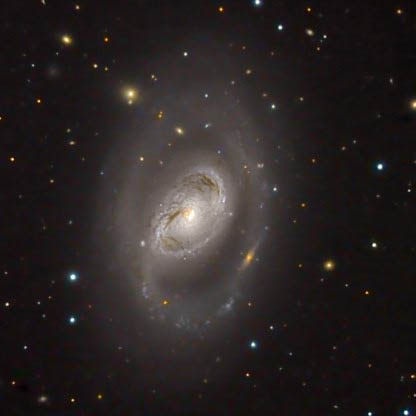Messier 96: (84, 47, 293, 369)
